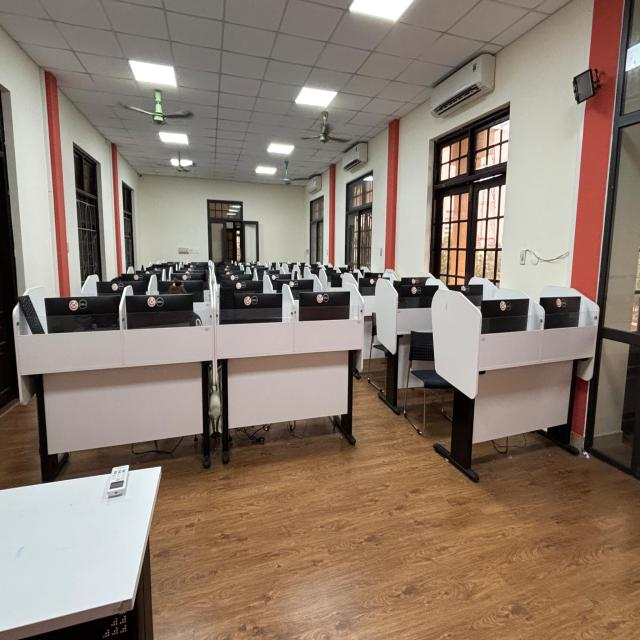obstacle: (12, 294, 215, 476), (0, 464, 162, 639), (439, 282, 587, 463), (223, 292, 356, 453)
